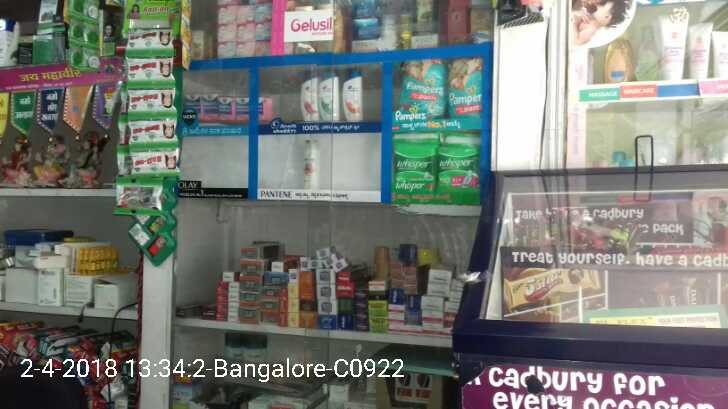vicks: (183, 91, 274, 125)
